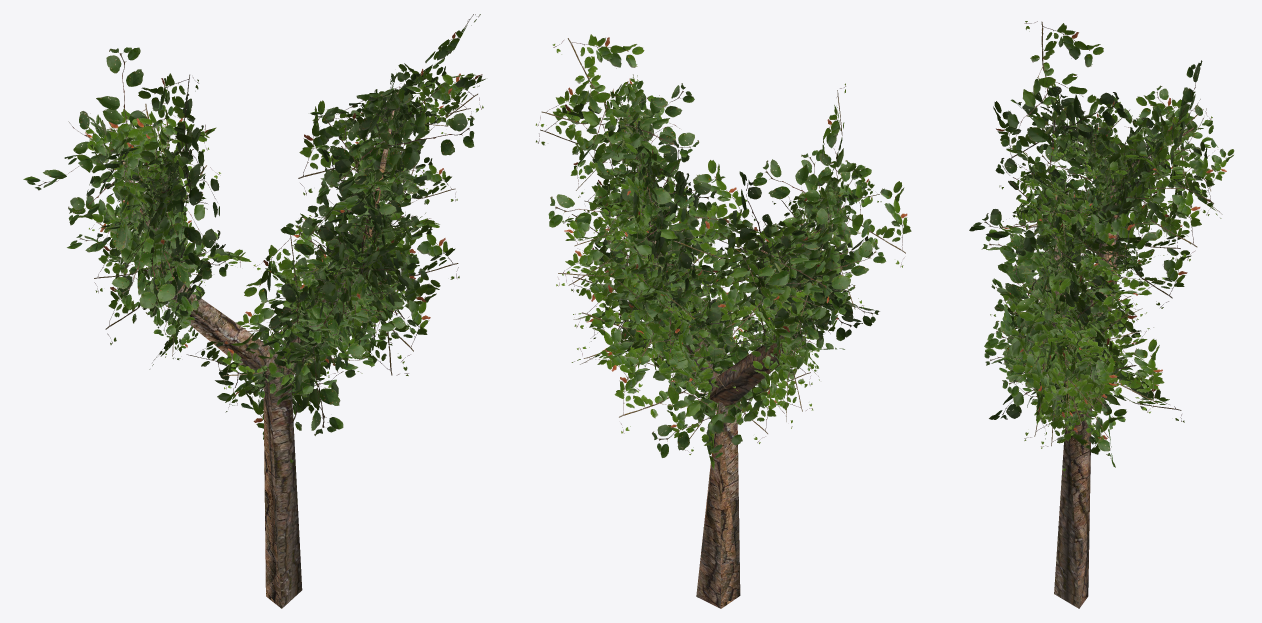
File: Tree1.fbx
3 views of the same model, side by side, from view 1: azimuth 30°, elevation 25°; view 2: azimuth 150°, elevation 25°; view 3: azimuth 270°, elevation 25° (orthographic). The views are drawn at different scales.
Visible parts, largest first — view 1: tree 1; view 2: tree 1; view 3: tree 1.
Boxes of the visible parts, box(x1,y1,x2,y2) form: tree 1: box(23, 14, 485, 608); tree 1: box(535, 34, 911, 608); tree 1: box(969, 21, 1234, 608).
Bounding box in the file's own units: 1128 × 1535 × 753.
Materials: 1 (1 with a texture image).
